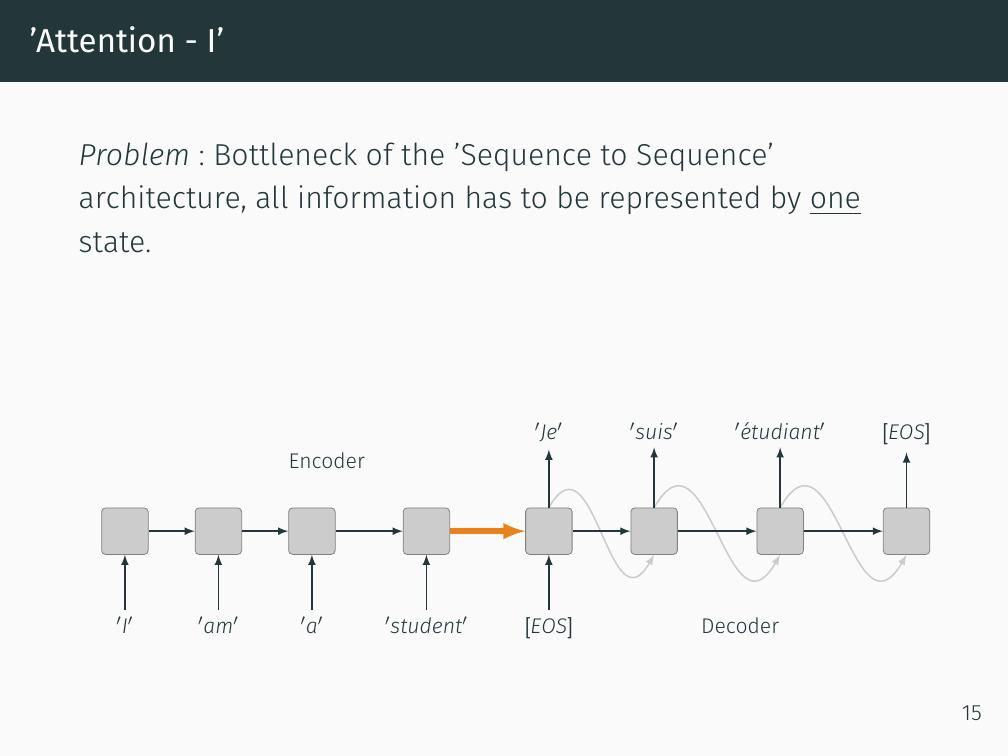Title: (21, 19, 236, 64)
